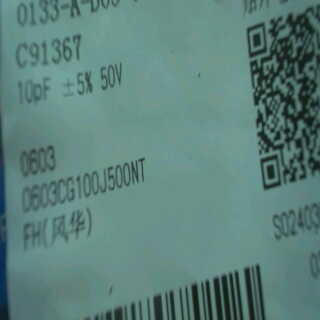10pF: (12, 72, 58, 108)
